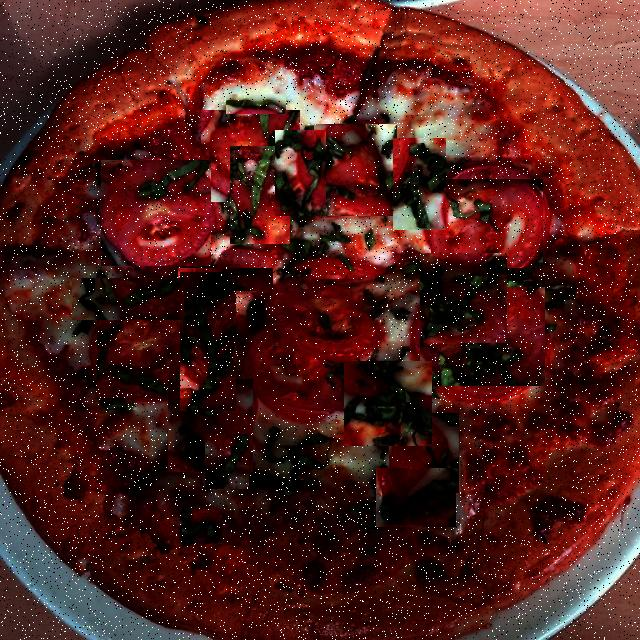Basil: (420, 253, 507, 343), (180, 272, 236, 411), (344, 361, 432, 446), (230, 146, 290, 244), (393, 138, 446, 230), (376, 468, 456, 527), (72, 278, 184, 320), (275, 130, 326, 216), (205, 434, 249, 489), (182, 509, 222, 544), (226, 94, 286, 114)
Pizza: (0, 0, 640, 640)
Tomato: (420, 287, 545, 386), (101, 160, 211, 266), (97, 287, 193, 398), (431, 179, 543, 268), (245, 326, 356, 414), (201, 110, 300, 202), (168, 379, 253, 472), (314, 124, 397, 216), (276, 280, 373, 346), (389, 413, 459, 493), (178, 268, 273, 291)
